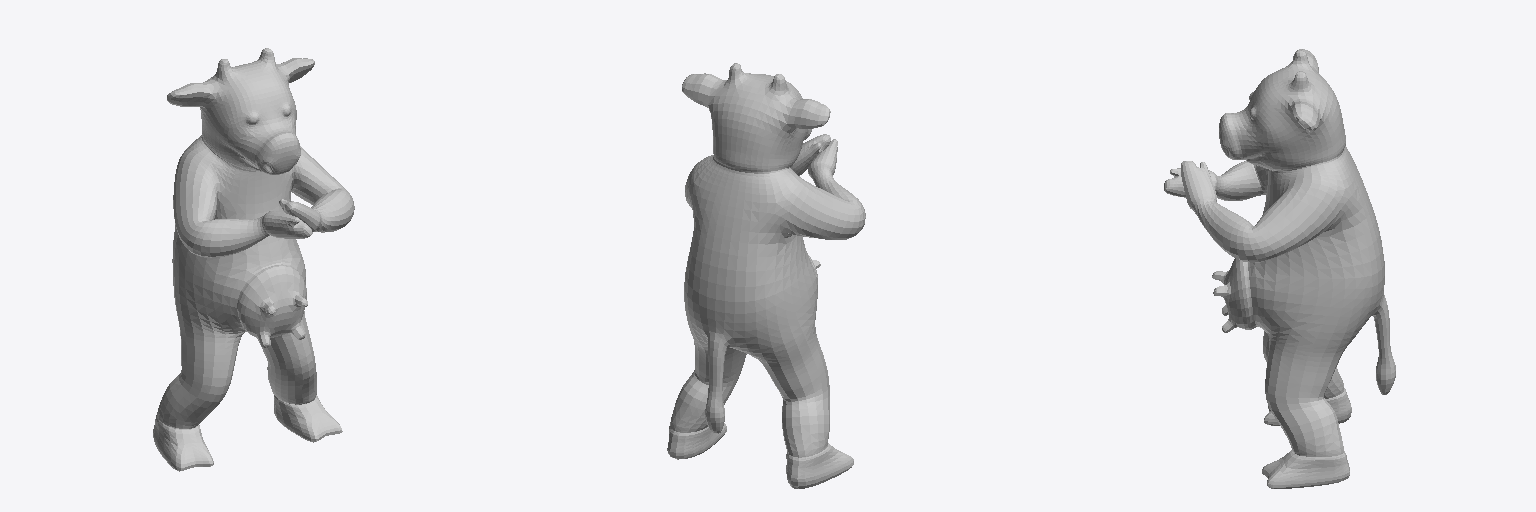
Rendered from cow.obj.
The picture shows the model from 3 angles: view 1: azimuth 30°, elevation 25°; view 2: azimuth 150°, elevation 25°; view 3: azimuth 270°, elevation 25°; orthographic projection.
Visible parts, largest first — view 1: 18693_Mascot_Cow_v2; view 2: 18693_Mascot_Cow_v2; view 3: 18693_Mascot_Cow_v2.
Part boxes in pixels (x1,y1,x2,y2): 18693_Mascot_Cow_v2: (153, 48, 354, 471); 18693_Mascot_Cow_v2: (667, 63, 865, 488); 18693_Mascot_Cow_v2: (1164, 49, 1395, 488).
Size of the model in its own units: 4.43 by 9.97 by 5.4.